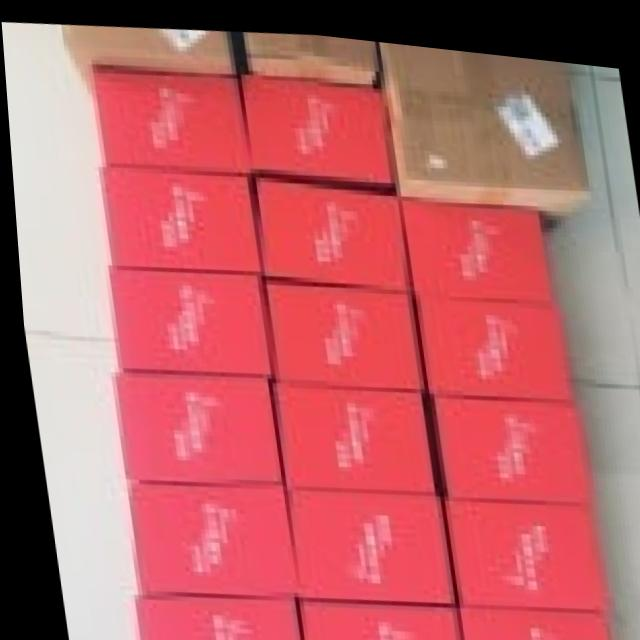box: (376, 33, 590, 221), (277, 483, 450, 598), (118, 479, 291, 592), (110, 369, 277, 479), (105, 264, 268, 371), (438, 490, 599, 598), (268, 377, 429, 484), (260, 274, 420, 381), (254, 172, 408, 282), (96, 163, 258, 267), (240, 68, 388, 179), (428, 385, 584, 489), (93, 66, 251, 167), (413, 286, 570, 387), (399, 191, 552, 288), (63, 24, 233, 93), (128, 593, 295, 640), (290, 597, 456, 640), (245, 27, 378, 76), (450, 598, 603, 640)
